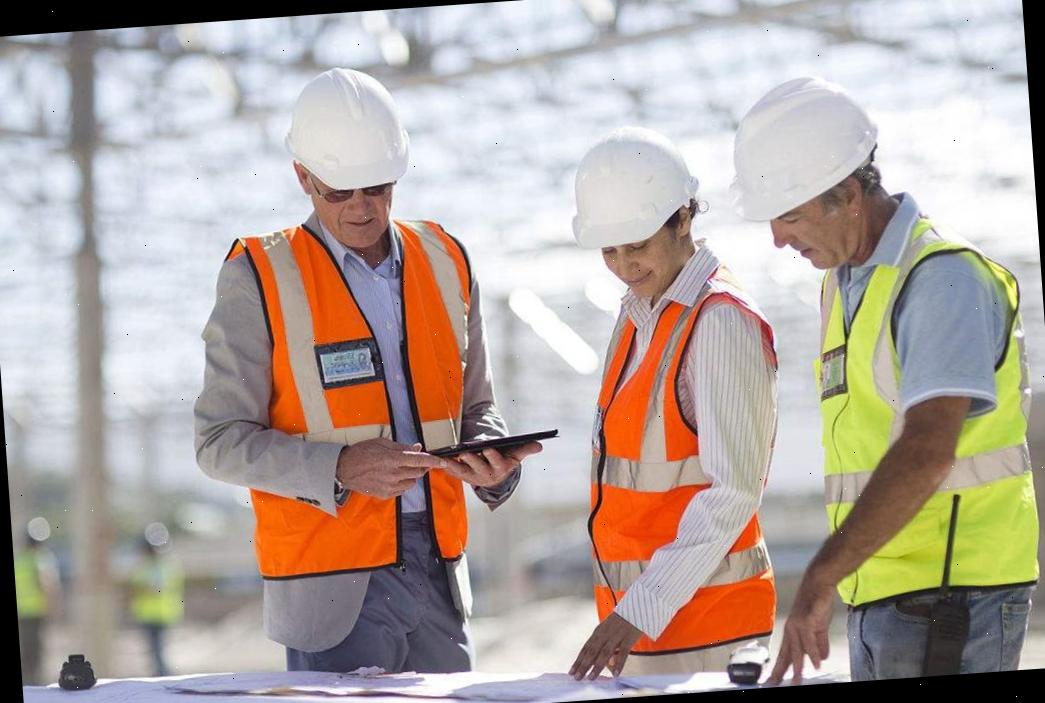helmet: (722, 68, 888, 222), (556, 120, 706, 263), (284, 58, 414, 197)
wear: (219, 217, 513, 597), (802, 225, 1045, 628), (564, 272, 800, 641)
